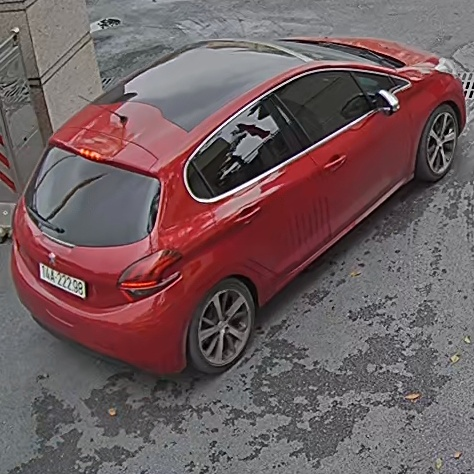vehicle plate: (35, 259, 89, 298)
